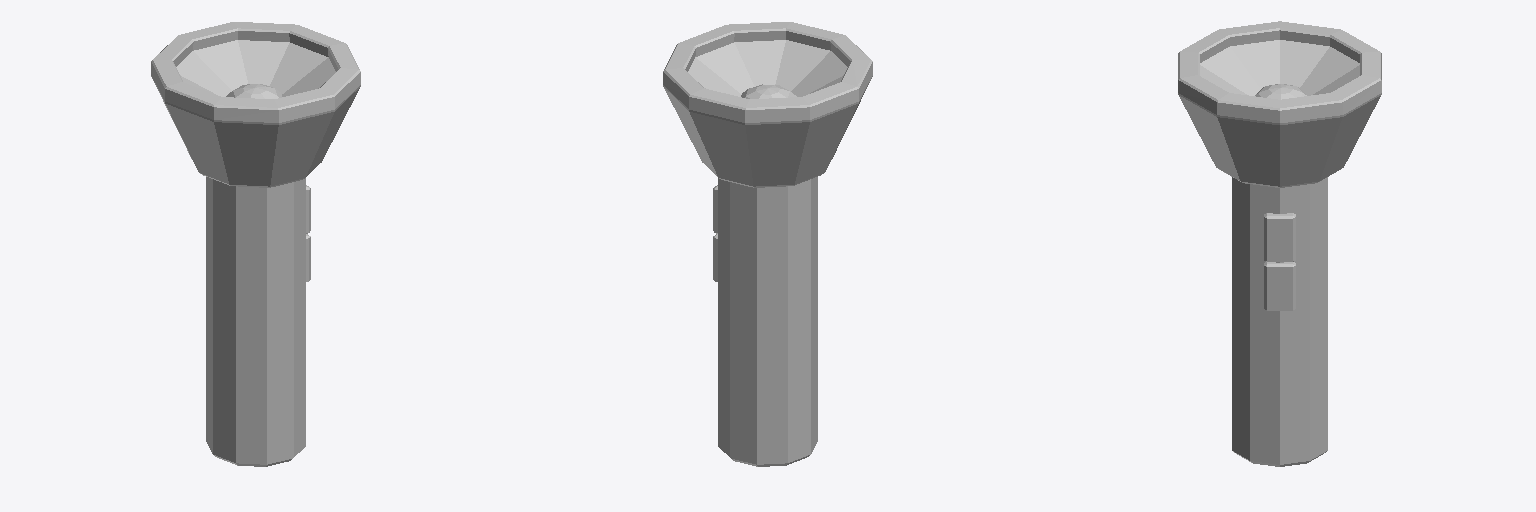
The model's file is fixed_flashlight.obj.
3 views of the same model, side by side, from view 1: azimuth 30°, elevation 25°; view 2: azimuth 150°, elevation 25°; view 3: azimuth 270°, elevation 25° (orthographic).
Parts seen in each view (by area): view 1: Flashlight1; view 2: Flashlight1; view 3: Flashlight1.
Part boxes in pixels (x1,y1,x2,y2): Flashlight1: (151, 22, 360, 466); Flashlight1: (663, 22, 872, 466); Flashlight1: (1178, 21, 1381, 466).
Size of the model in its own units: 19.75 by 39.7 by 19.11.